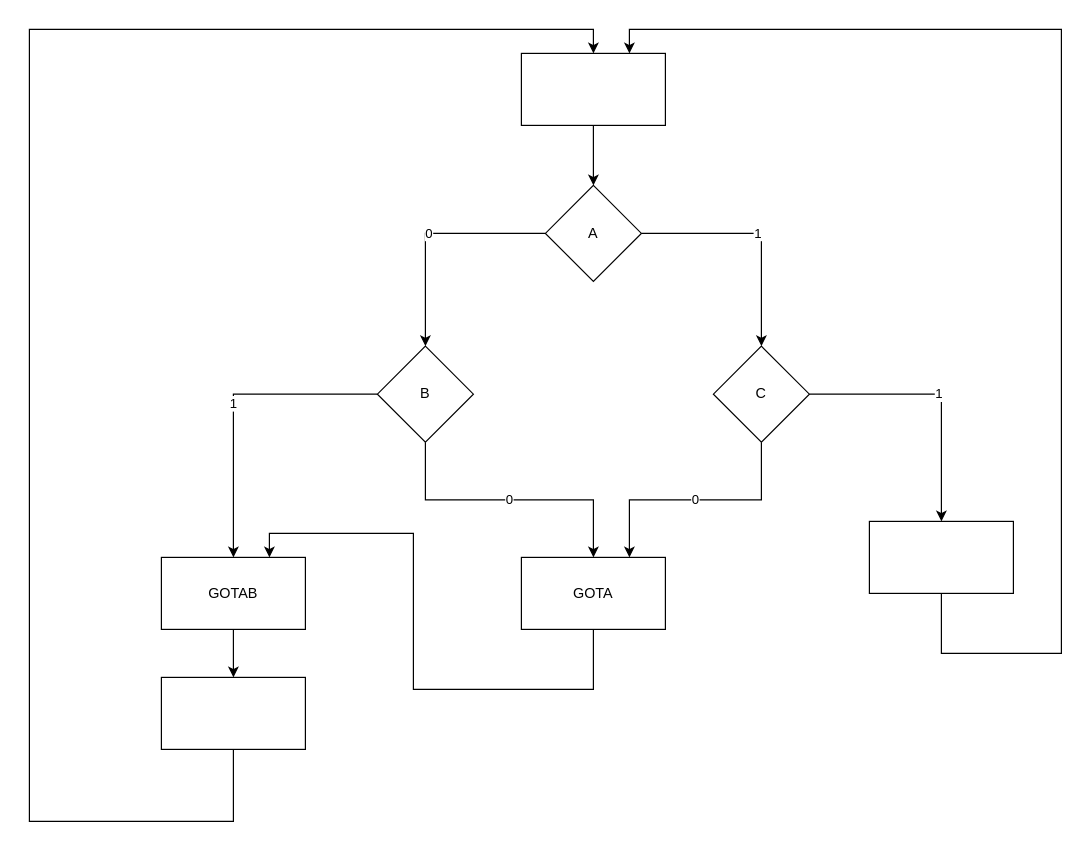
Image size: 1092x852. Some labels were removed from this diagram. Here are the shapes that lost their labels. From the top down, the centre of each, then its label:
At point (592, 88): "IDLE".
At point (940, 556): "GOTAC".
At point (232, 712): "GOTABD".
